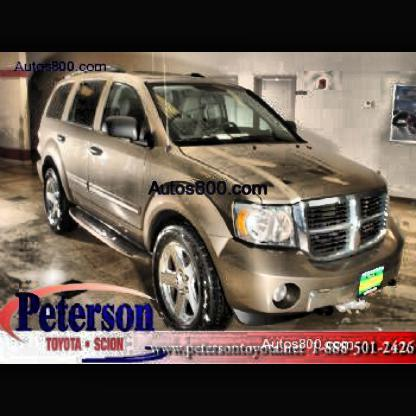Dodge Durango SUV 2007: (21, 62, 408, 347)
